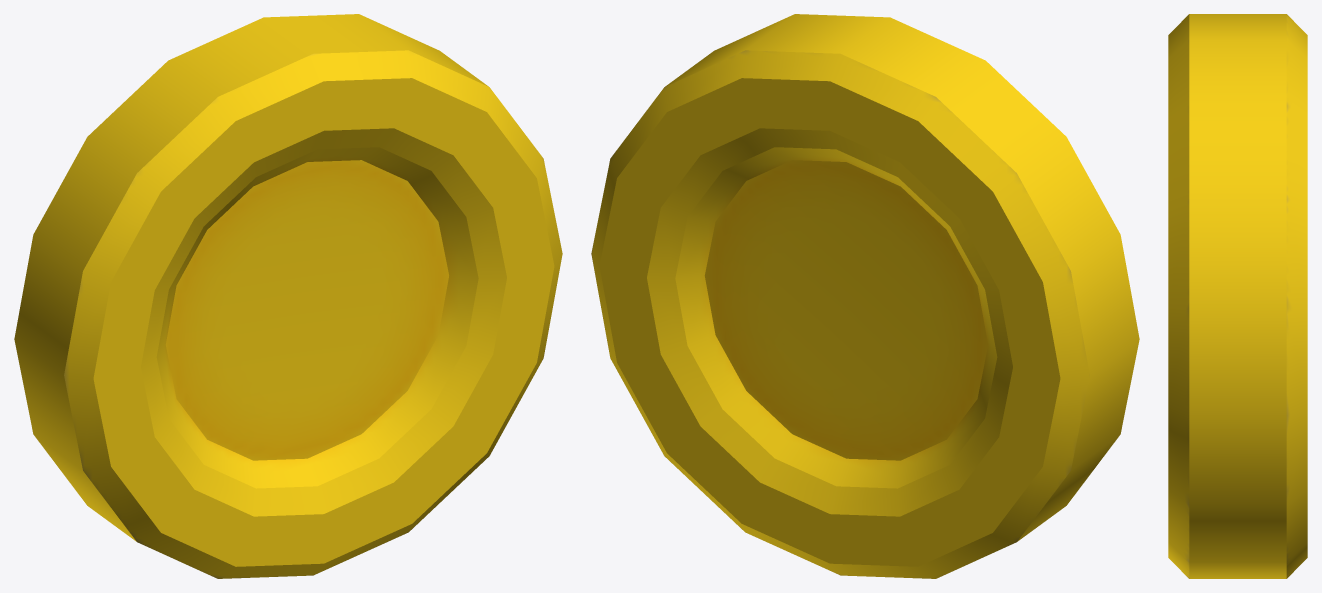
File: coin.glb
The picture shows the model from 3 angles, left to right: view 1: azimuth 30°, elevation 25°; view 2: azimuth 150°, elevation 25°; view 3: azimuth 270°, elevation 25°; orthographic projection.
Parts seen in each view (by area): view 1: Coin; view 2: Coin; view 3: Coin.
Part boxes in pixels (<box>): Coin: <box>14,14,562,578</box>; Coin: <box>591,14,1139,578</box>; Coin: <box>1168,14,1307,578</box>.
Bounding box in the file's own units: 0.7827 × 0.7827 × 0.193.
1 material, 1 textured.
